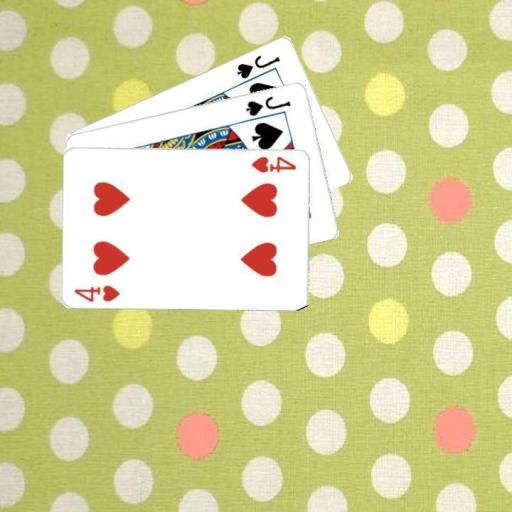card-corner: (233, 52, 282, 80), (242, 92, 292, 118), (72, 282, 122, 303), (249, 153, 298, 174)
